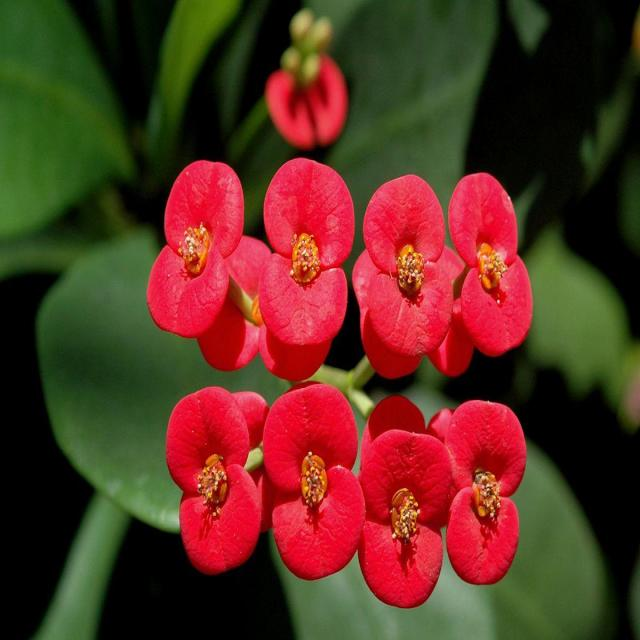organic waste: (265, 374, 369, 582), (358, 393, 455, 615), (144, 148, 246, 355), (166, 383, 269, 582), (361, 164, 457, 364), (441, 171, 539, 363), (261, 154, 347, 358), (444, 400, 530, 596)
